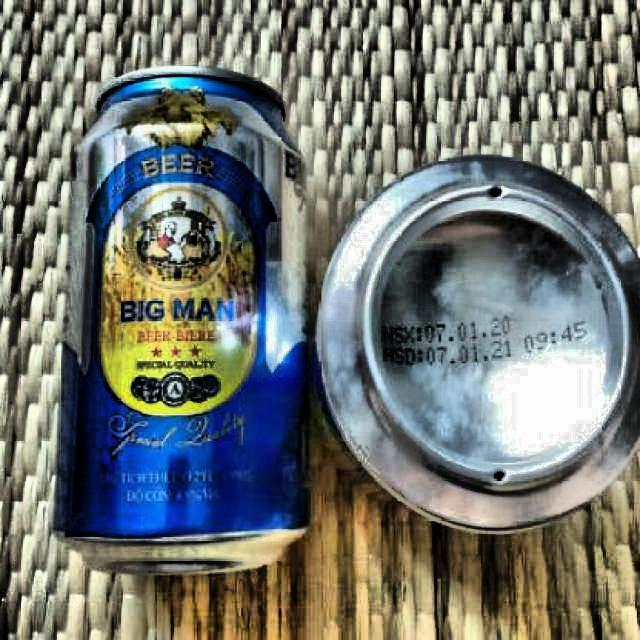can: (45, 57, 314, 584), (316, 149, 640, 536)
